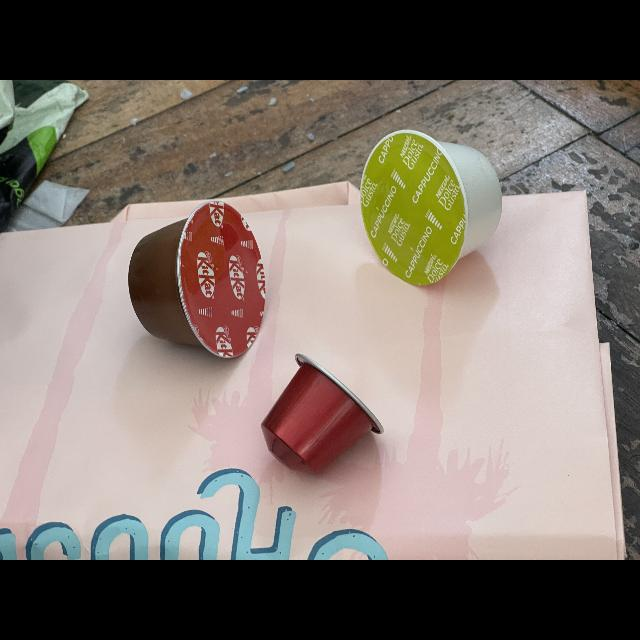intact_capsule: (124, 196, 276, 364), (354, 123, 502, 289), (254, 346, 396, 492)
